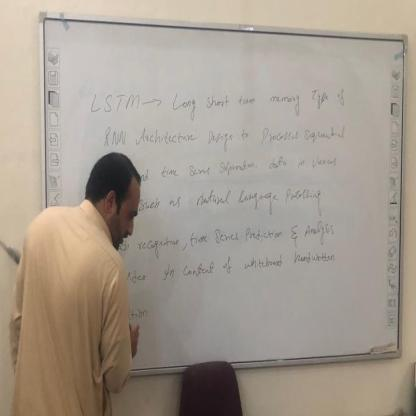Handwritten text: (124, 249, 341, 296), (85, 83, 350, 119), (129, 220, 339, 259), (95, 119, 349, 150), (137, 187, 330, 222), (135, 151, 345, 179)
Lecturer: (39, 143, 149, 415)
Whiteboard: (34, 11, 411, 392)
